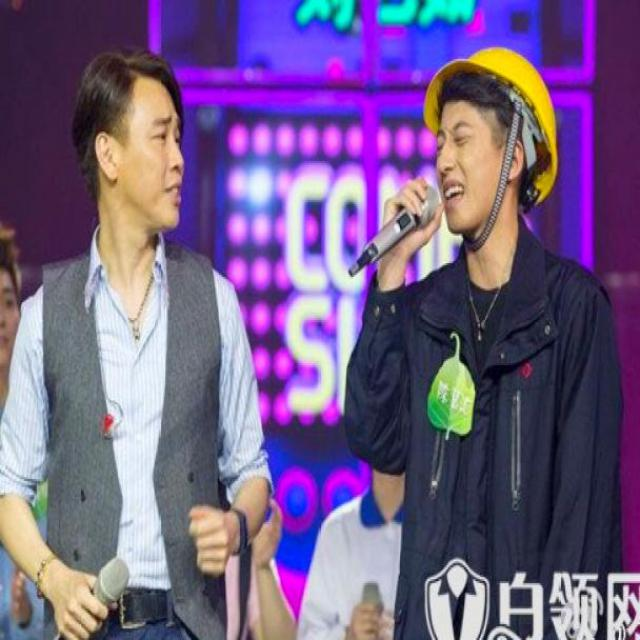helmet: (410, 41, 568, 263)
